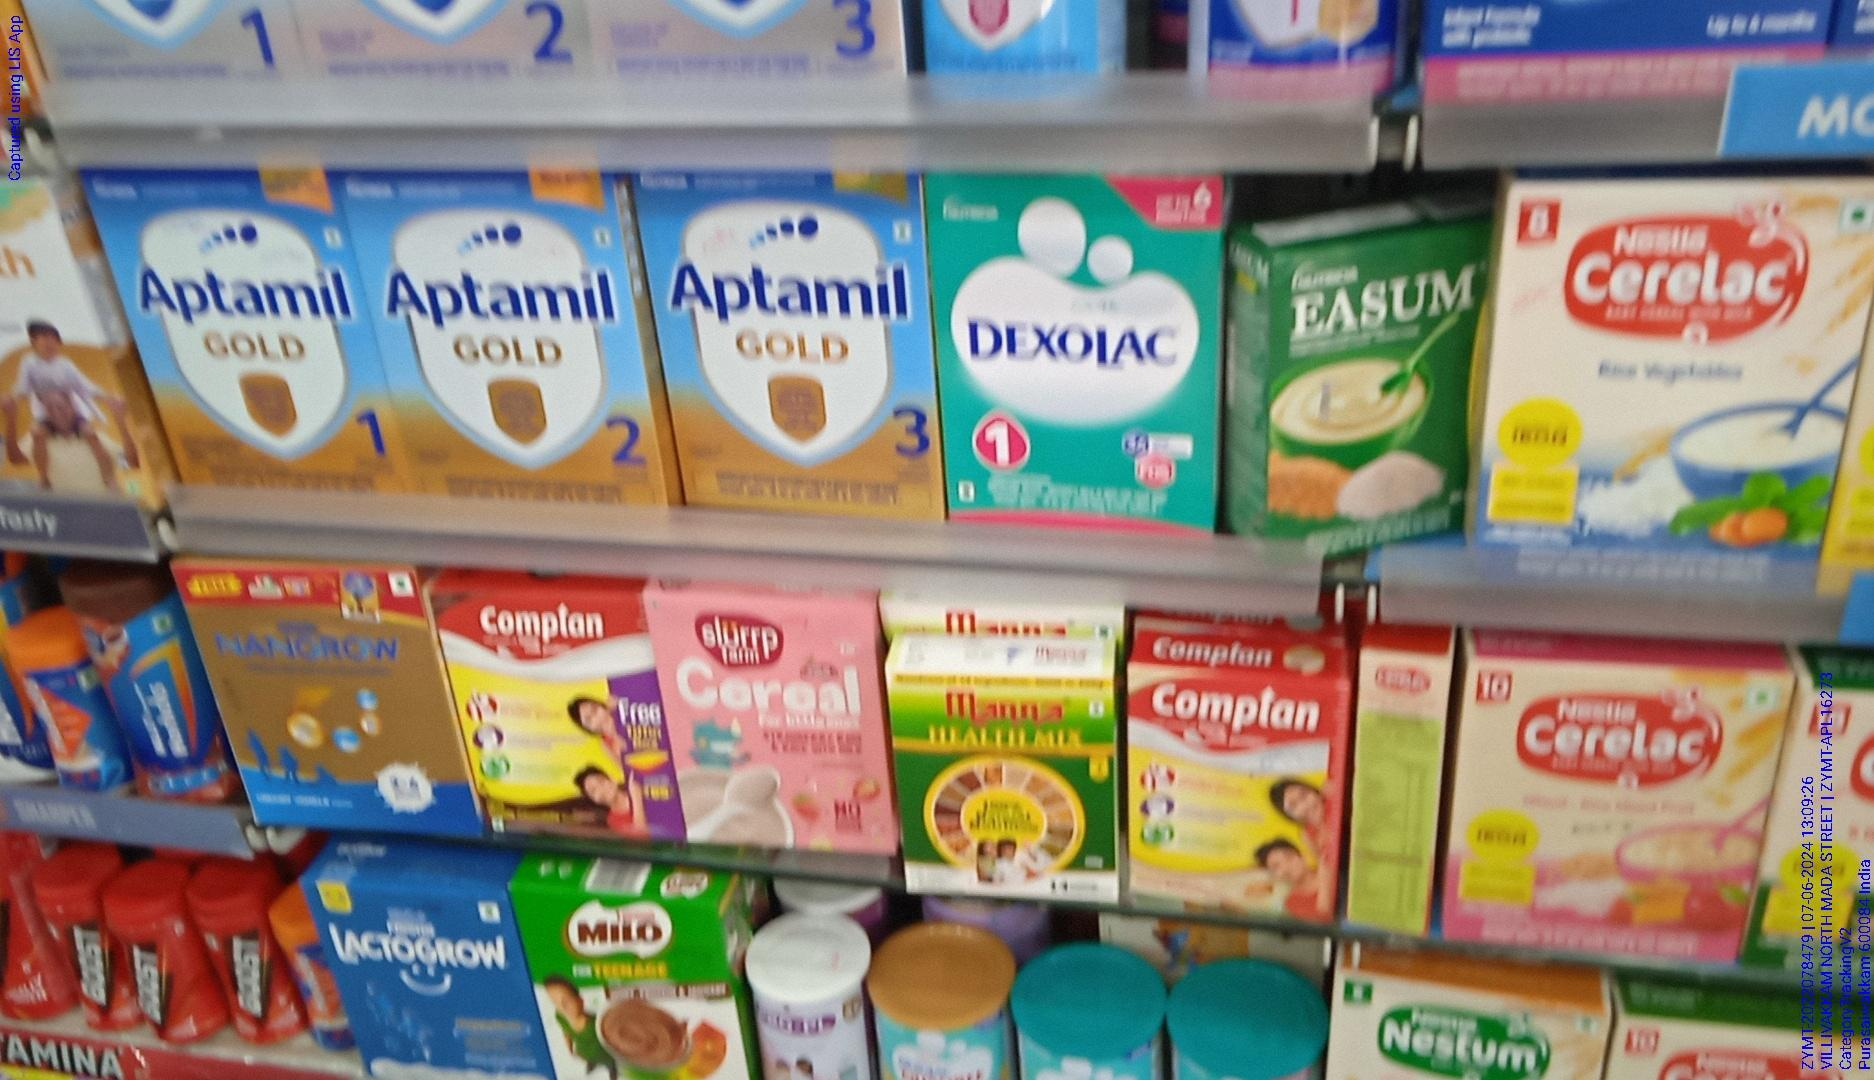COMPLAN_CHOCOLATE_500_GMS_PACK: (453, 590, 660, 852)
COMPLAN_KESAR_BADAM_500_GMS_PACK: (1120, 672, 1335, 920)
